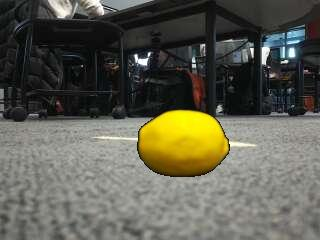lemon: (140, 110, 229, 176)
